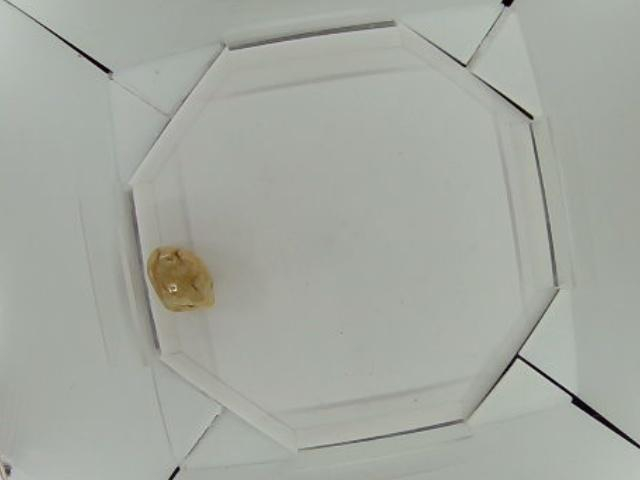Pebble: (149, 243, 217, 309)
